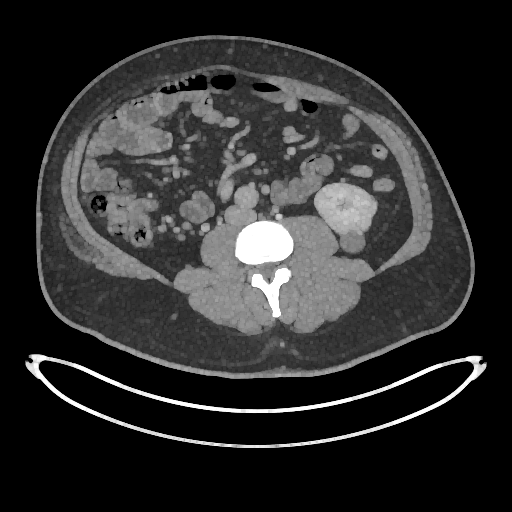Lesion: (334, 230, 367, 257)
